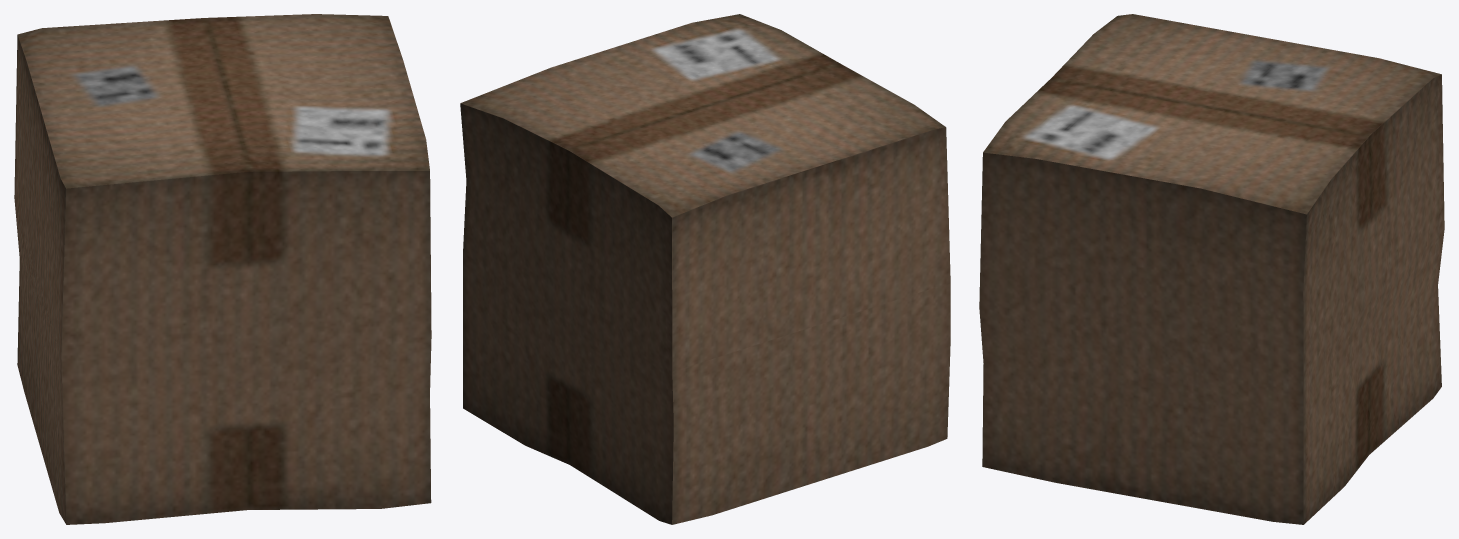
3 renders of one model, left to right at view 1: azimuth 30°, elevation 25°; view 2: azimuth 150°, elevation 25°; view 3: azimuth 270°, elevation 25°, orthographic. The views are drawn at different scales.
Visible parts, largest first — view 1: cardboard_box_2; view 2: cardboard_box_2; view 3: cardboard_box_2.
Part boxes in pixels (box(x1,y1,x2,y2)): cardboard_box_2: box(14, 14, 431, 524); cardboard_box_2: box(460, 14, 950, 524); cardboard_box_2: box(979, 14, 1444, 524).
Bounding box in the file's own units: 0.9497 × 0.7262 × 0.9477.
Materials: 1 (1 with a texture image).
